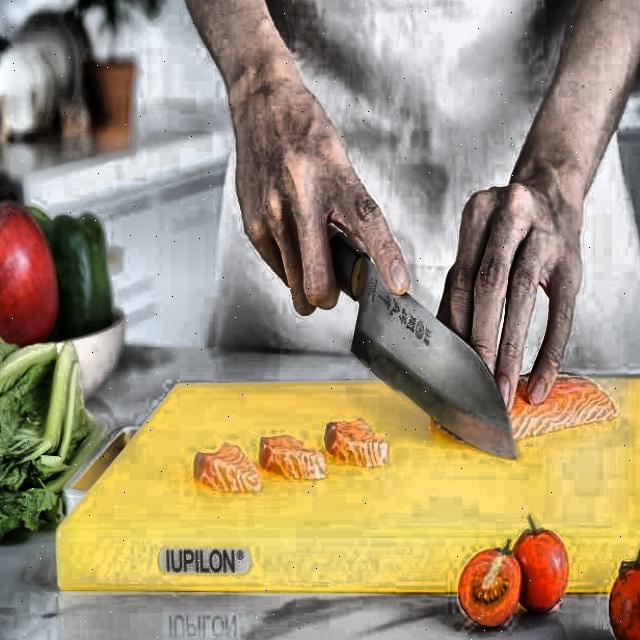knife: (307, 212, 521, 472)
